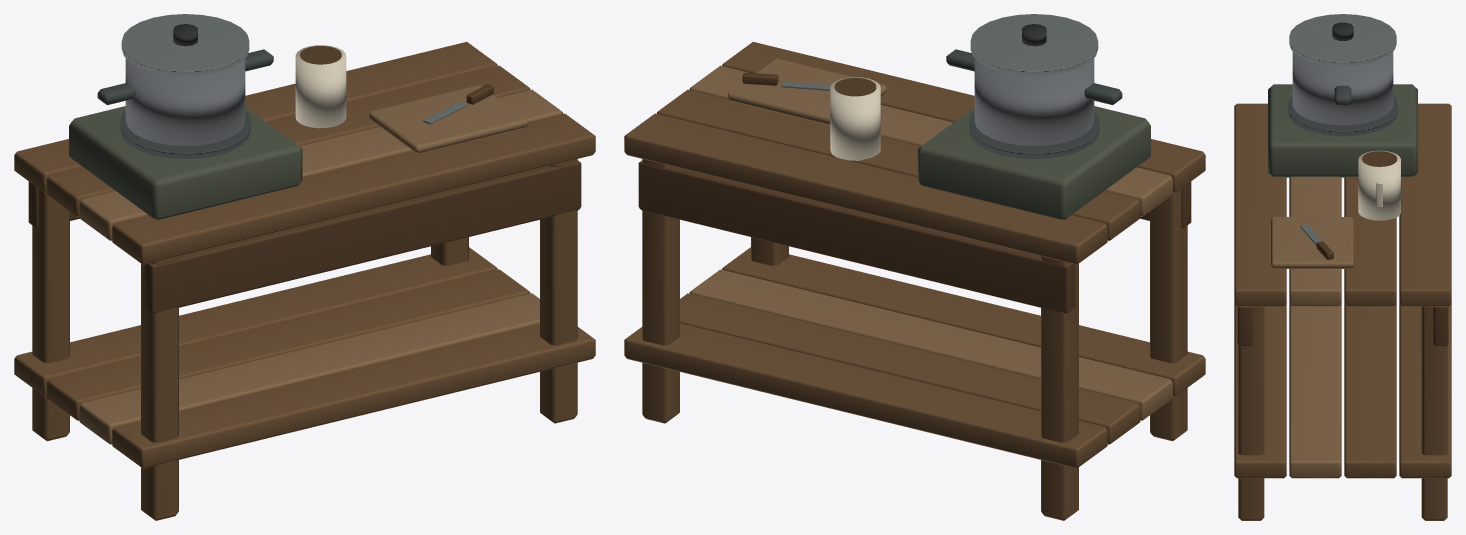
Rendered from CookingStation02.fbx.
3 renders of one model, left to right at view 1: azimuth 30°, elevation 25°; view 2: azimuth 150°, elevation 25°; view 3: azimuth 270°, elevation 25°, orthographic. The views are drawn at different scales.
Visible parts, largest first — view 1: CookingStation02.001; view 2: CookingStation02.001; view 3: CookingStation02.001.
Boxes of the visible parts, x1,y1,x2,y2 form: CookingStation02.001: (14, 14, 595, 520); CookingStation02.001: (624, 14, 1205, 520); CookingStation02.001: (1234, 14, 1451, 520).
Bounding box in the file's own units: 145 × 130 × 71.2.
